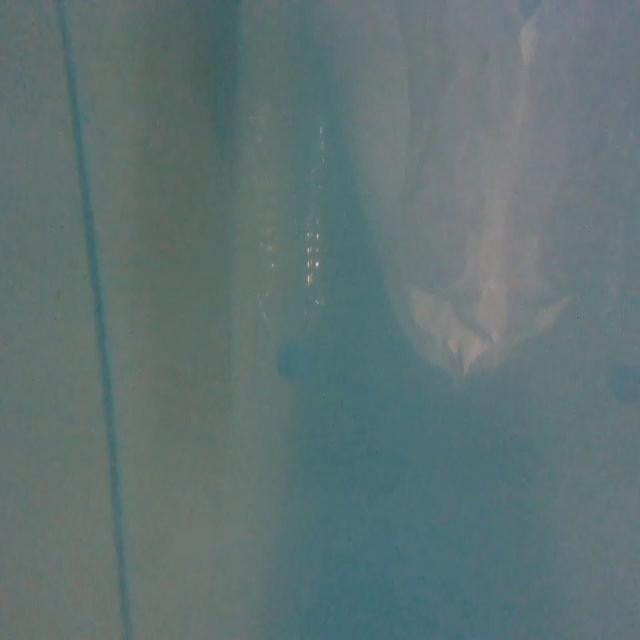plastic bags: (330, 0, 623, 387)
plastic bottle: (252, 102, 330, 385)
